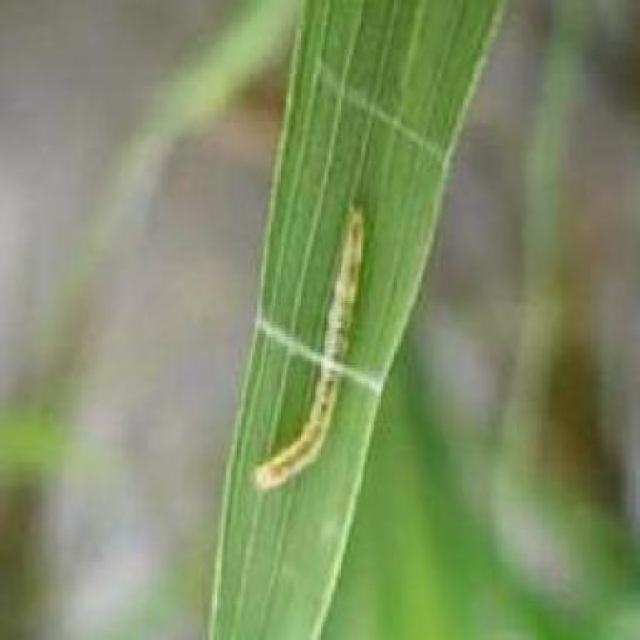leaf-folder: (228, 187, 402, 505)
